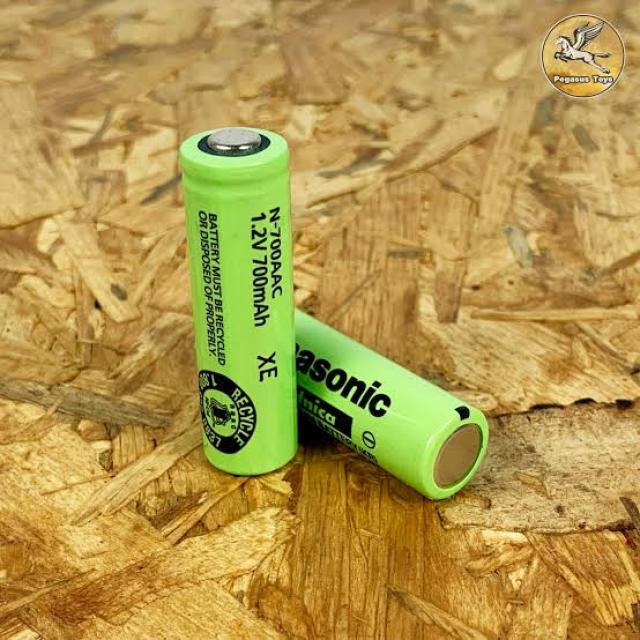battery: (186, 128, 302, 488)
